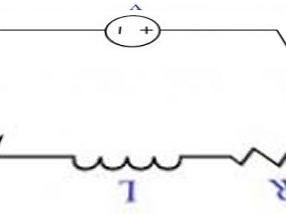inductor: (62, 137, 198, 176)
